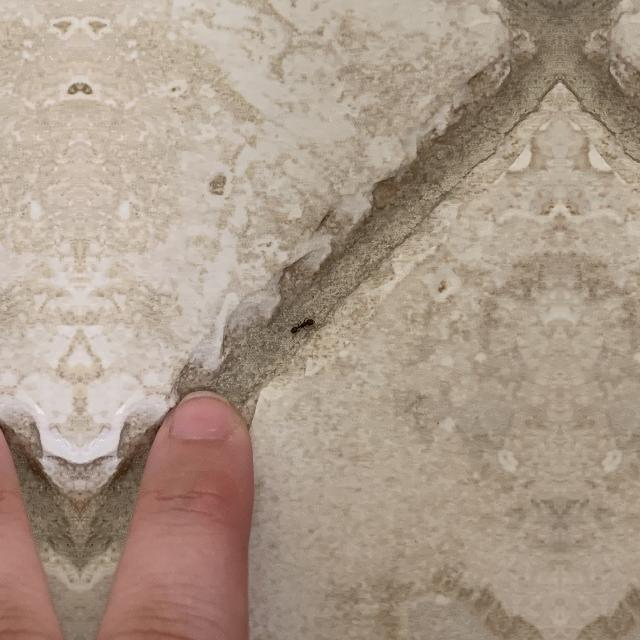Tetramorium: (288, 311, 316, 341)
